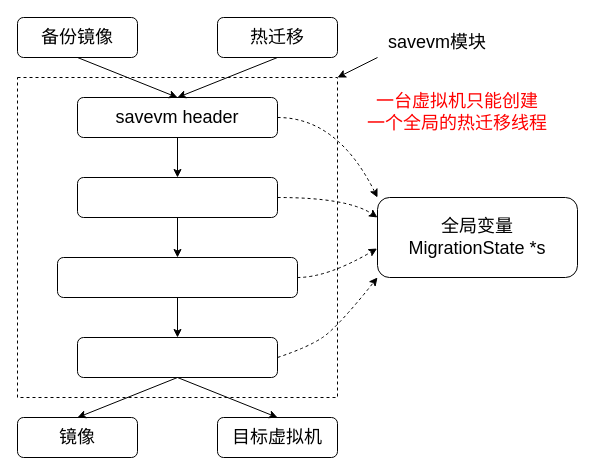
The diagram is 595 pixels wide and 475 high, and some of its shapes have lost their labels. The box of each missing label's shape, as (x1, y1, x2, y2) in pixels:
savevm live iterate: (56, 256, 298, 298)
savevm setup: (76, 176, 278, 218)
savevm vmsd: (76, 336, 278, 378)
